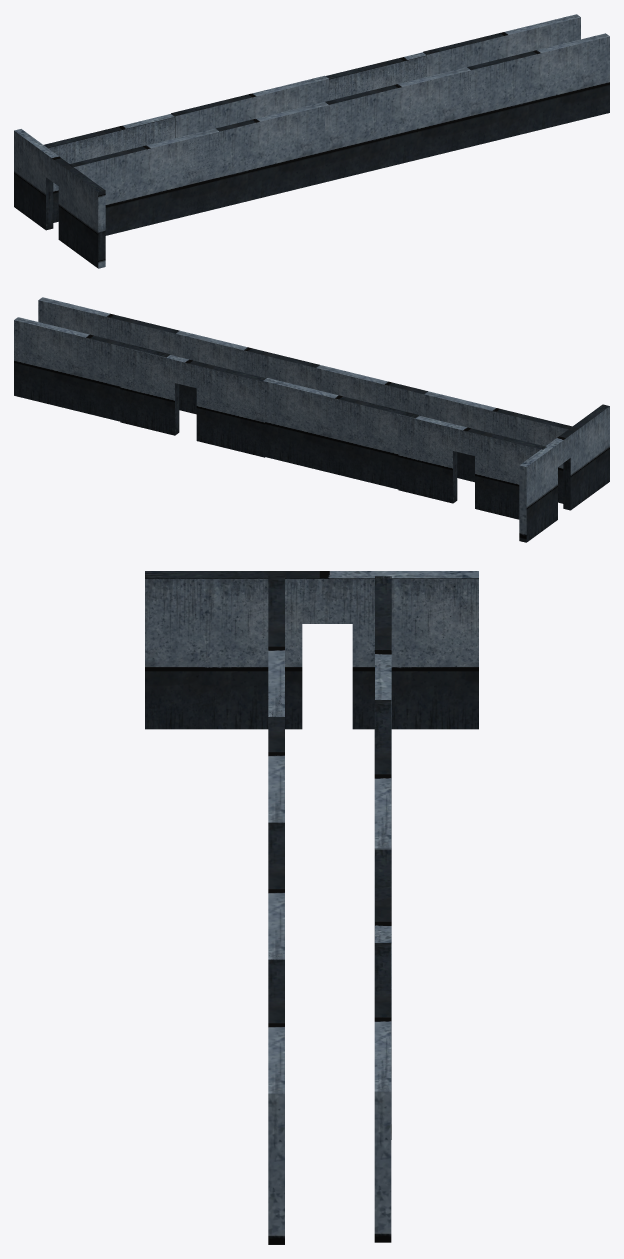
File: office_hallway.glb
3 views of the same model, one above another, from view 1: azimuth 30°, elevation 25°; view 2: azimuth 150°, elevation 25°; view 3: azimuth 270°, elevation 25° (orthographic). The views are drawn at different scales.
Parts seen in each view (by area): view 1: mur1.004, mur1.008, mur1.010, mur1.009, mur3.004, mur1.003, mur1.007, mur3.003, mur3.002; view 2: mur1.007, mur3.002, mur3.003, mur1.003, mur3.004, mur1.009, mur1.008, mur1.004, mur1.010; view 3: mur3.004, mur1.003, mur1.004, mur1.007, mur1.009, mur1.008, mur3.003, mur1.010, mur3.002.
Boxes of the visible parts, x1,y1,x2,y2 form: mur1.004: (463, 33, 609, 148); mur1.008: (325, 67, 470, 182); mur1.010: (183, 102, 328, 216); mur1.009: (69, 128, 219, 235); mur3.004: (14, 129, 105, 268); mur1.003: (423, 14, 580, 76); mur1.007: (171, 75, 328, 138); mur3.003: (44, 114, 174, 222); mur3.002: (326, 52, 426, 100); mur1.007: (263, 378, 419, 489); mur3.002: (120, 347, 265, 457); mur3.003: (398, 414, 546, 519); mur1.003: (14, 317, 170, 421); mur3.004: (519, 404, 609, 542); mur1.009: (424, 391, 572, 503); mur1.008: (175, 330, 319, 414); mur1.004: (38, 297, 182, 410); mur1.010: (316, 365, 427, 416); mur3.004: (145, 571, 478, 729); mur1.003: (374, 943, 391, 1242); mur1.004: (268, 955, 284, 1244); mur1.007: (374, 700, 391, 942); mur1.009: (268, 576, 284, 716); mur1.008: (268, 822, 284, 959); mur3.003: (375, 576, 391, 847); mur1.010: (268, 692, 284, 822); mur3.002: (375, 848, 391, 1139).
Size of the model in its own units: 22.28 by 3.02 by 6.
Materials: 9 (9 with a texture image).
